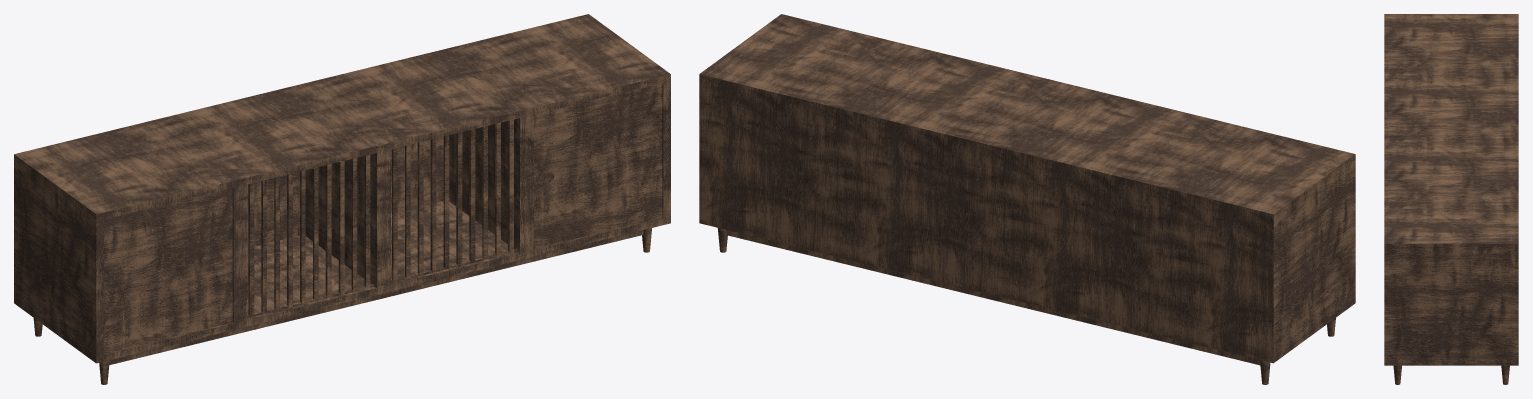
3 renders of one model, left to right at view 1: azimuth 30°, elevation 25°; view 2: azimuth 150°, elevation 25°; view 3: azimuth 270°, elevation 25°, orthographic. The views are drawn at different scales.
Visible parts, largest first — view 1: Cabinet, Legs; view 2: Cabinet, Legs; view 3: Cabinet, Legs.
Boxes of the visible parts, box(x1,y1,x2,y2) form: Cabinet: box(14, 14, 670, 363); Legs: box(33, 228, 651, 384); Cabinet: box(699, 14, 1355, 363); Legs: box(717, 228, 1335, 384); Cabinet: box(1384, 14, 1518, 365); Legs: box(1393, 365, 1509, 384).
Bounding box in the file's own units: 15.86 × 4.73 × 3.93.
2 materials, 2 textured.
